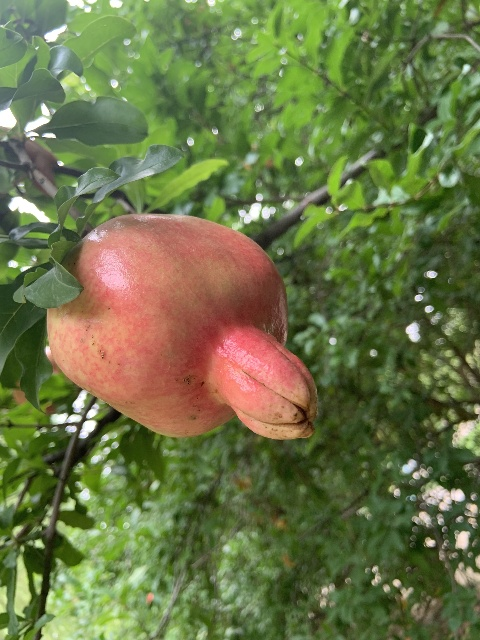ripe: (47, 213, 319, 439)
